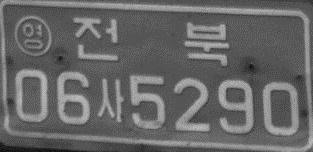0: (261, 81, 299, 136), (13, 67, 49, 122)
2: (173, 76, 210, 132)
5: (128, 74, 166, 130)
6: (56, 71, 90, 126)
9: (217, 78, 254, 135)
사: (96, 78, 126, 122)
영: (13, 14, 52, 57)
전북_D: (72, 15, 229, 67)
